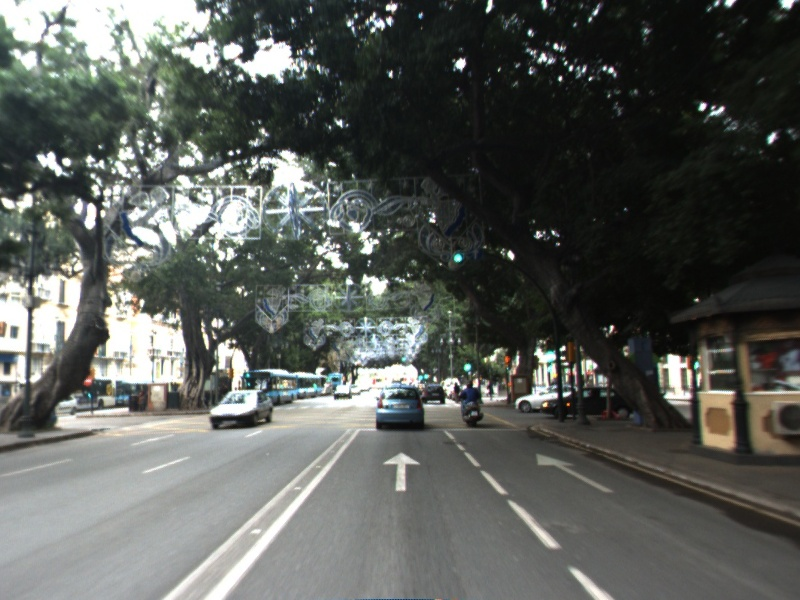STRAIGHT: (534, 452, 617, 495), (380, 450, 422, 493)
